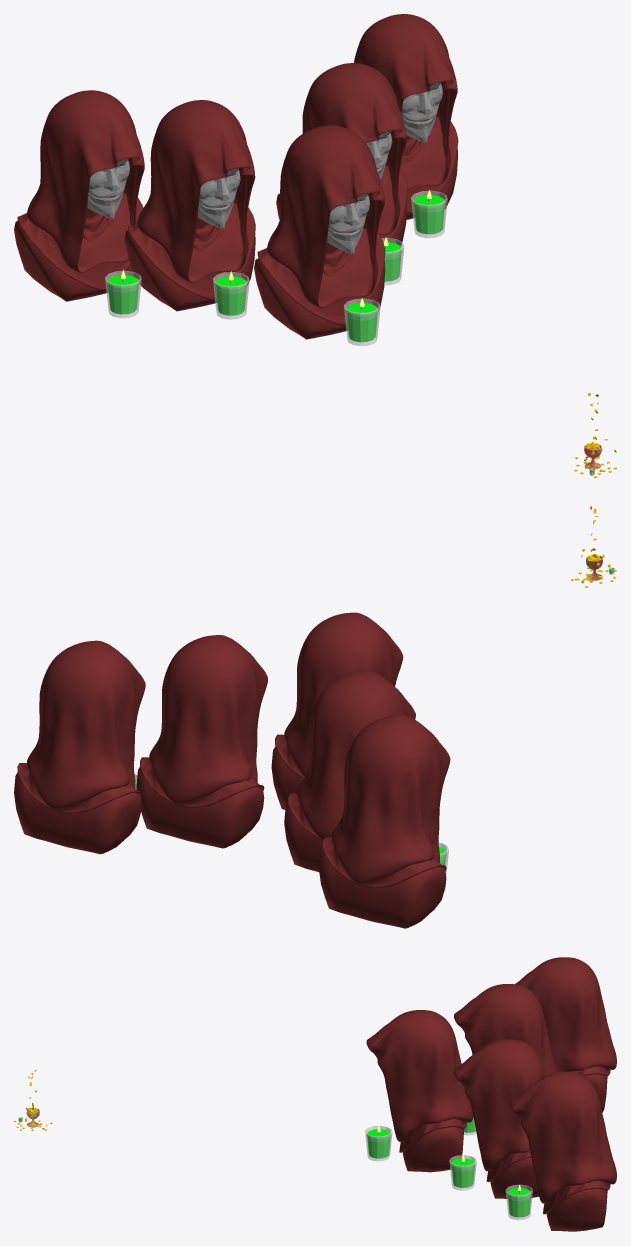
The model's file is holyGrail.glb.
3 views of the same model, one above another, from view 1: azimuth 30°, elevation 25°; view 2: azimuth 150°, elevation 25°; view 3: azimuth 270°, elevation 25° (orthographic). The views are drawn at different scales.
Parts seen in each view (by area): view 1: fabric5_4_fabric5_4_0.004, fabric5_4_fabric5_4_0.008, fabric5_4_fabric5_4_0.016, fabric5_4_fabric5_4_0.020, fabric5_4_fabric5_4_0.012, fabric5_4_fabric5_4_0.003, fabric5_4_fabric5_4_0.007, fabric5_4_fabric5_4_0.002, fabric5_4_fabric5_4_0.015, fabric5_4_fabric5_4_0.006, fabric5_4_fabric5_4_0.014, Mesh1 Model.003 (+14 smaller); view 2: fabric5_4_fabric5_4_0.020, fabric5_4_fabric5_4_0.016, fabric5_4_fabric5_4_0.012, fabric5_4_fabric5_4_0.008, fabric5_4_fabric5_4_0.004, fabric5_4_fabric5_4_0.018, fabric5_4_fabric5_4_0.014, fabric5_4_fabric5_4_0.010, fabric5_4_fabric5_4_0.006, fabric5_4_fabric5_4_0.015, fabric5_4_fabric5_4_0.011, fabric5_4_fabric5_4_0.019 (+1 smaller); view 3: fabric5_4_fabric5_4_0.020, fabric5_4_fabric5_4_0.004, fabric5_4_fabric5_4_0.016, fabric5_4_fabric5_4_0.012, fabric5_4_fabric5_4_0.008, fabric5_4_fabric5_4_0.002, fabric5_4_fabric5_4_0.018, fabric5_4_fabric5_4_0.010, glass.002, glass, glass.003, fabric5_4_fabric5_4_0.019 (+6 smaller).
Boxes of the visible parts, box(x1,y1,x2,y2) form: fabric5_4_fabric5_4_0.004: box(267, 125, 384, 307); fabric5_4_fabric5_4_0.008: box(137, 100, 255, 282); fabric5_4_fabric5_4_0.016: box(27, 90, 144, 272); fabric5_4_fabric5_4_0.020: box(354, 14, 457, 190); fabric5_4_fabric5_4_0.012: box(302, 63, 406, 235); fabric5_4_fabric5_4_0.003: box(257, 228, 385, 325); fabric5_4_fabric5_4_0.007: box(128, 203, 255, 300); fabric5_4_fabric5_4_0.002: box(254, 258, 385, 339); fabric5_4_fabric5_4_0.015: box(17, 193, 143, 290); fabric5_4_fabric5_4_0.006: box(124, 223, 255, 311); fabric5_4_fabric5_4_0.014: box(14, 221, 133, 301); Mesh1 Model.003: box(87, 158, 129, 219); fabric5_4_fabric5_4_0.020: box(27, 640, 145, 809); fabric5_4_fabric5_4_0.016: box(331, 715, 450, 884); fabric5_4_fabric5_4_0.012: box(149, 635, 267, 804); fabric5_4_fabric5_4_0.008: box(297, 671, 415, 839); fabric5_4_fabric5_4_0.004: box(284, 612, 403, 777); fabric5_4_fabric5_4_0.018: box(14, 772, 141, 854); fabric5_4_fabric5_4_0.014: box(318, 847, 446, 928); fabric5_4_fabric5_4_0.010: box(136, 767, 264, 848); fabric5_4_fabric5_4_0.006: box(284, 802, 322, 871); fabric5_4_fabric5_4_0.015: box(322, 837, 446, 887); fabric5_4_fabric5_4_0.011: box(140, 757, 264, 807); fabric5_4_fabric5_4_0.019: box(17, 763, 141, 813); fabric5_4_fabric5_4_0.020: box(510, 1071, 616, 1203); fabric5_4_fabric5_4_0.004: box(366, 1010, 473, 1141); fabric5_4_fabric5_4_0.016: box(515, 957, 616, 1071); fabric5_4_fabric5_4_0.012: box(454, 1039, 544, 1171); fabric5_4_fabric5_4_0.008: box(454, 984, 556, 1075); fabric5_4_fabric5_4_0.002: box(402, 1127, 464, 1172); fabric5_4_fabric5_4_0.018: box(546, 1188, 607, 1231); fabric5_4_fabric5_4_0.010: box(490, 1157, 538, 1198); glass.002: box(449, 1155, 476, 1190); glass: box(365, 1125, 392, 1161); glass.003: box(505, 1184, 532, 1220); fabric5_4_fabric5_4_0.019: box(543, 1180, 610, 1214).
Size of the model in its own units: 147 by 63.59 by 237.
15 materials, 2 textured.
